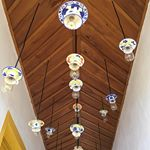cups: (61, 7, 86, 31), (2, 66, 24, 88), (66, 53, 86, 72)
